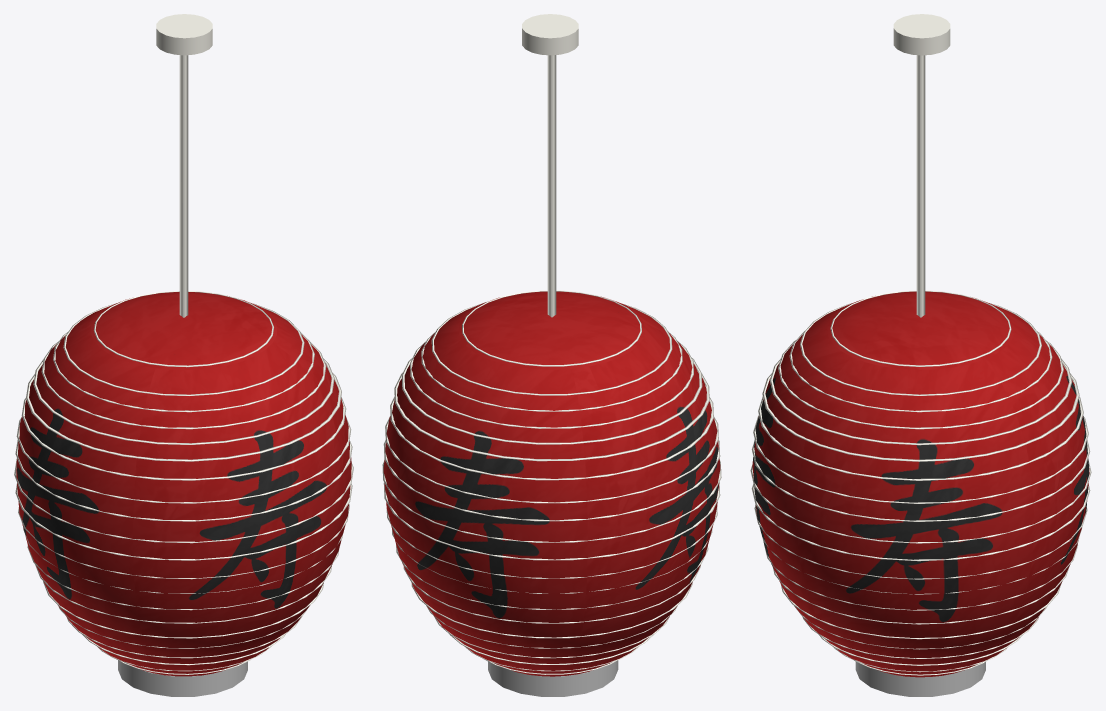
Rendered from Ceiling lamp.FBX.
3 views of the same model, side by side, from view 1: azimuth 30°, elevation 25°; view 2: azimuth 150°, elevation 25°; view 3: azimuth 270°, elevation 25° (orthographic).
Visible parts, largest first — view 1: ceiling lamp; view 2: ceiling lamp; view 3: ceiling lamp.
Boxes of the visible parts, <box> form: ceiling lamp: <box>14,14,353,696</box>; ceiling lamp: <box>382,14,721,696</box>; ceiling lamp: <box>750,14,1091,696</box>.
Bounding box in the file's own units: 37.75 × 78.7 × 37.75.
